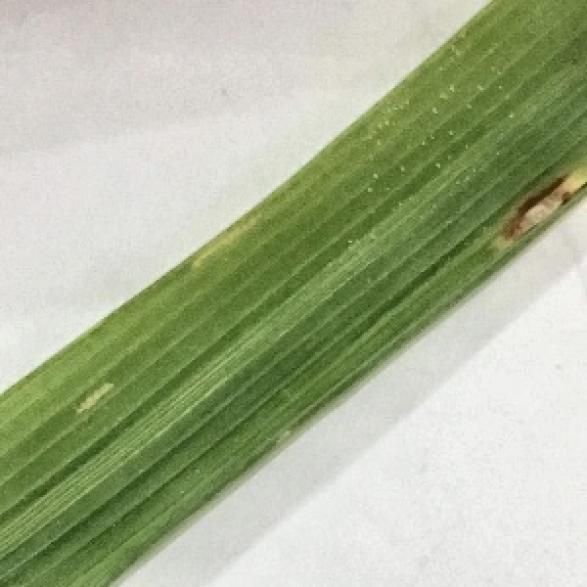Leaf_smut: (479, 160, 585, 248)
